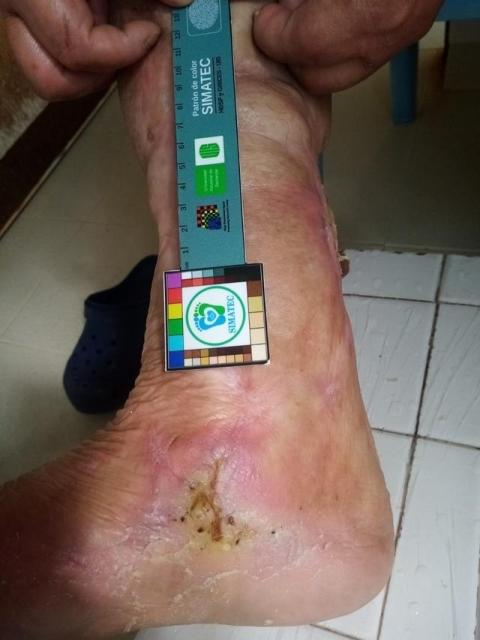wound: (182, 454, 242, 550)
